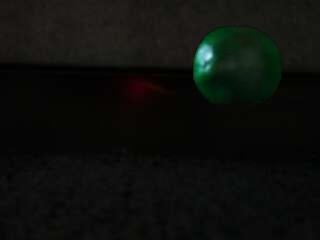Lime: (190, 23, 287, 110)
